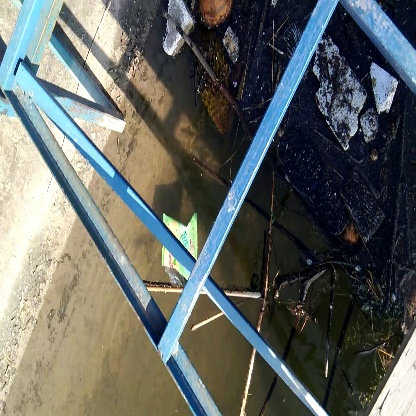plastic-garbage: (317, 45, 373, 146)
